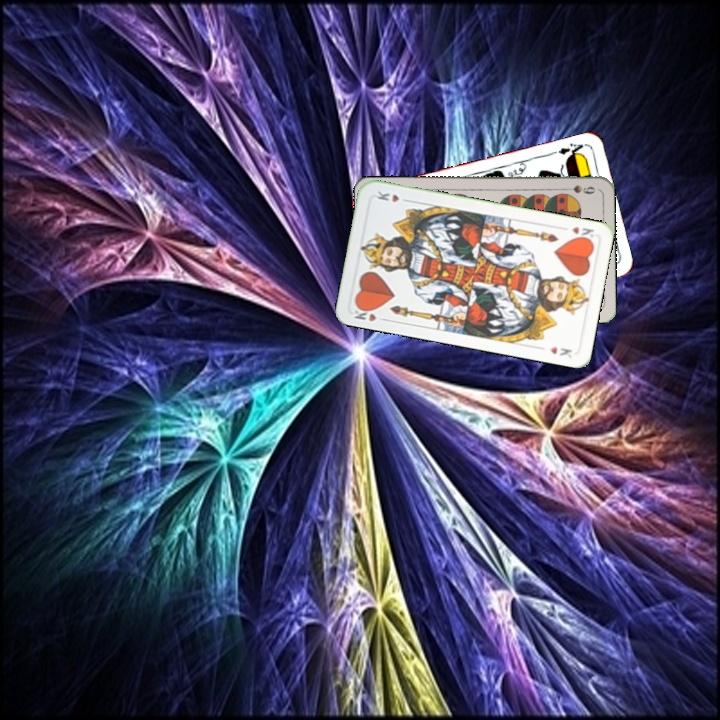EA: (547, 139, 587, 161)
HK: (349, 302, 390, 324), (568, 222, 598, 243)
S9: (558, 181, 598, 196)
